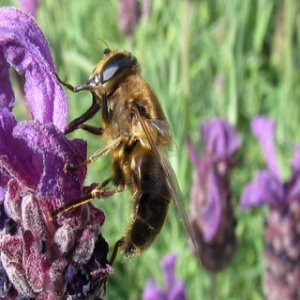bee: (58, 39, 203, 269)
